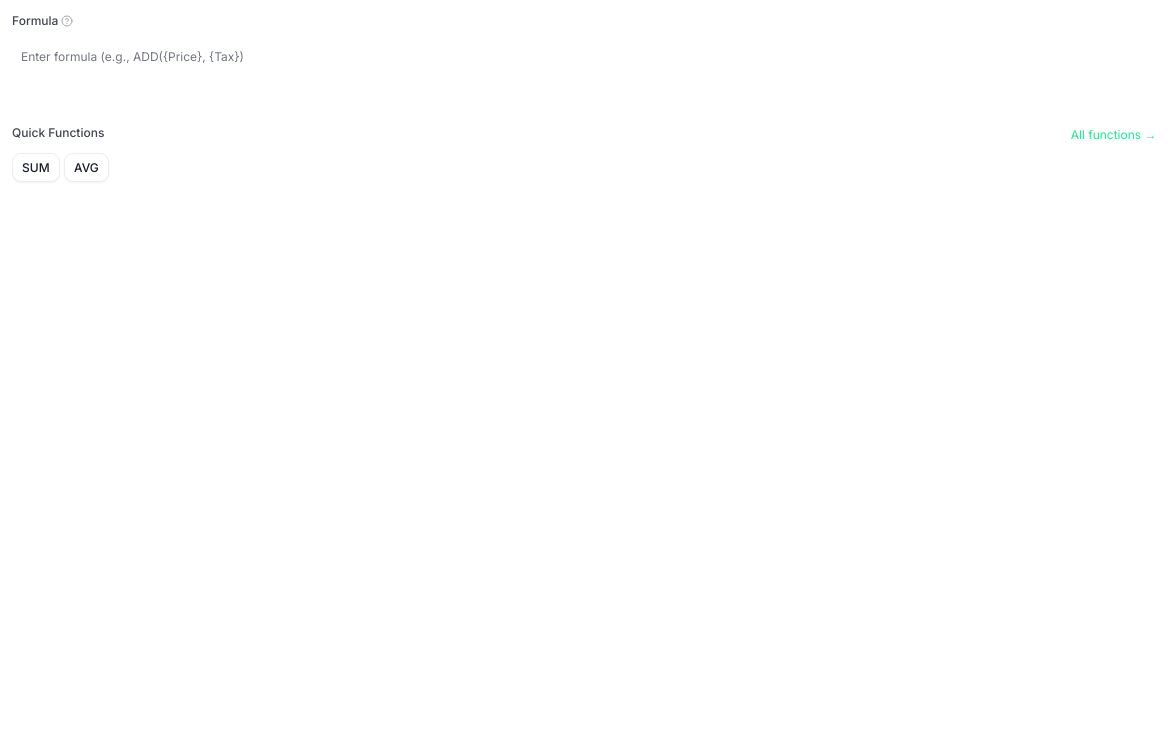
Test: Formula › clears function search in modal
Click the button with aria-label "view all functions" at coordinates (1114, 135), box [1063,123,1164,147]
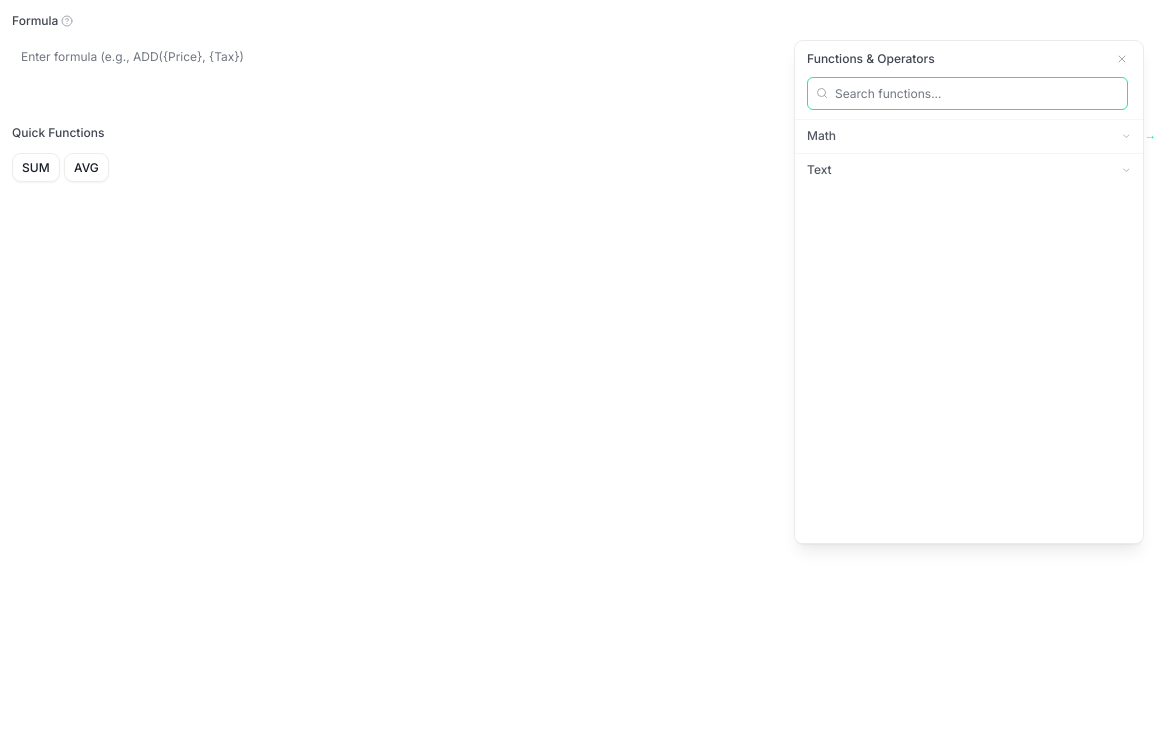
Type "sum" into the field with placeholder "Search functions..." at coordinates (967, 93), box [807,76,1128,110]
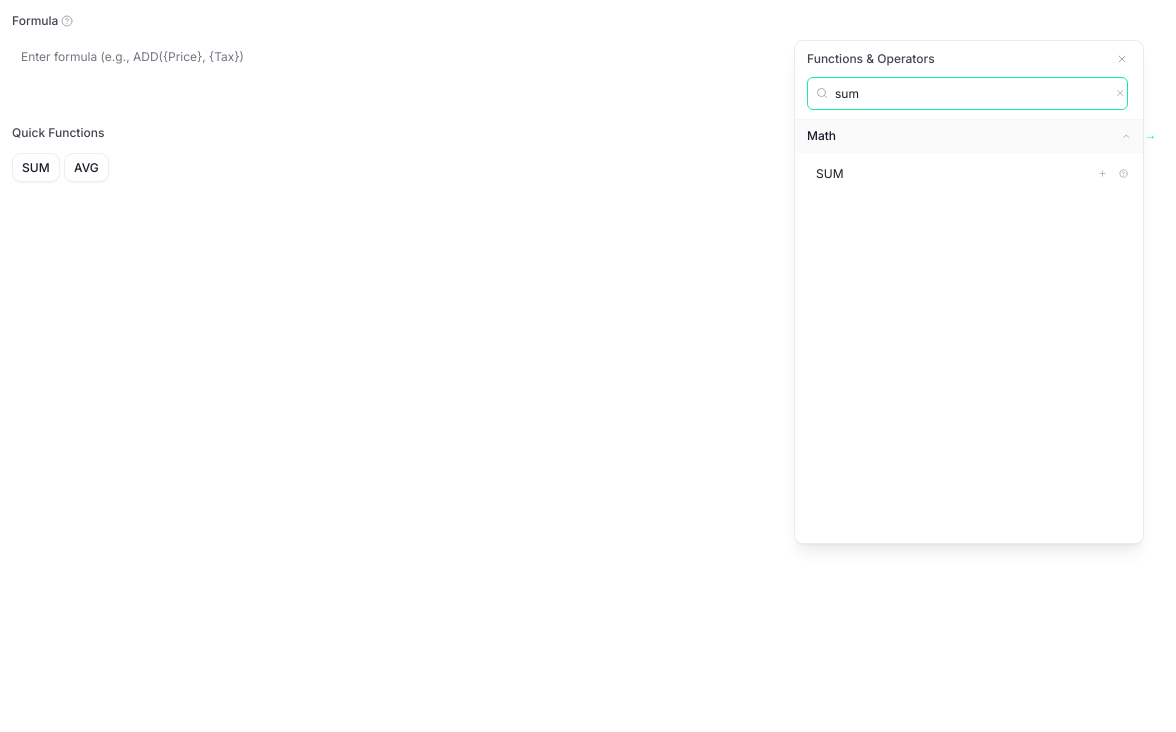
Click the button named "Clear search" at coordinates (1120, 93), box [1114,88,1125,98]
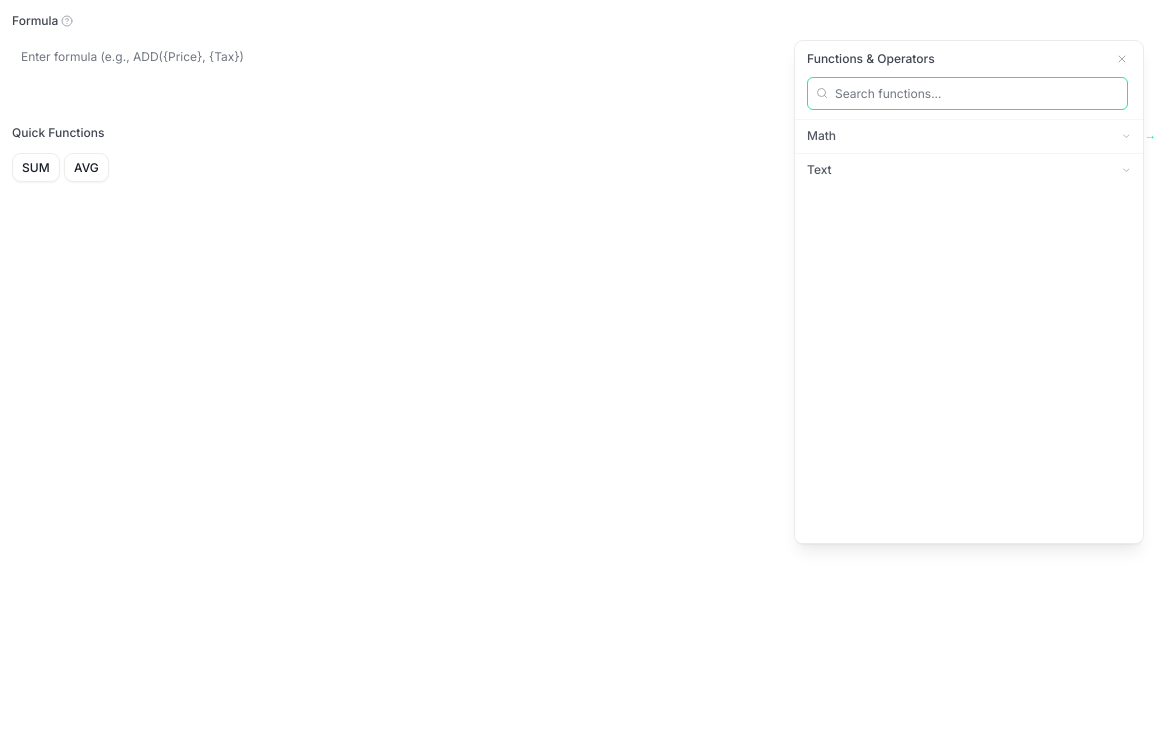
Expected: the field with placeholder "Search functions..." is empty, [807,76,1128,110]
